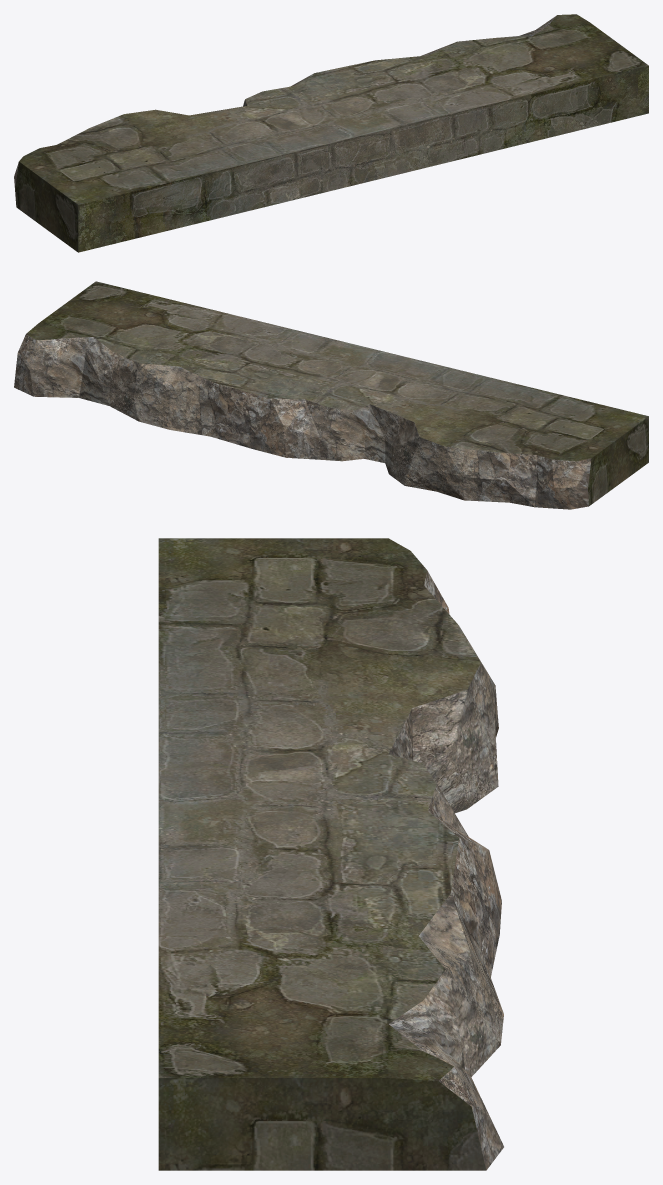
Rendered from bg_lut_lutomb_brokenfloor01_sm_old.FBX.
3 views of the same model, one above another, from view 1: azimuth 30°, elevation 25°; view 2: azimuth 150°, elevation 25°; view 3: azimuth 270°, elevation 25° (orthographic). The views are drawn at different scales.
Visible parts, largest first — view 1: bg_lut_lutomb_brokenfloor01_sm_old; view 2: bg_lut_lutomb_brokenfloor01_sm_old; view 3: bg_lut_lutomb_brokenfloor01_sm_old.
Part boxes in pixels (x1,y1,x2,y2): bg_lut_lutomb_brokenfloor01_sm_old: (14, 14, 648, 252); bg_lut_lutomb_brokenfloor01_sm_old: (14, 281, 648, 509); bg_lut_lutomb_brokenfloor01_sm_old: (158, 538, 503, 1170).
Size of the model in its own units: 800 by 64 by 217.
